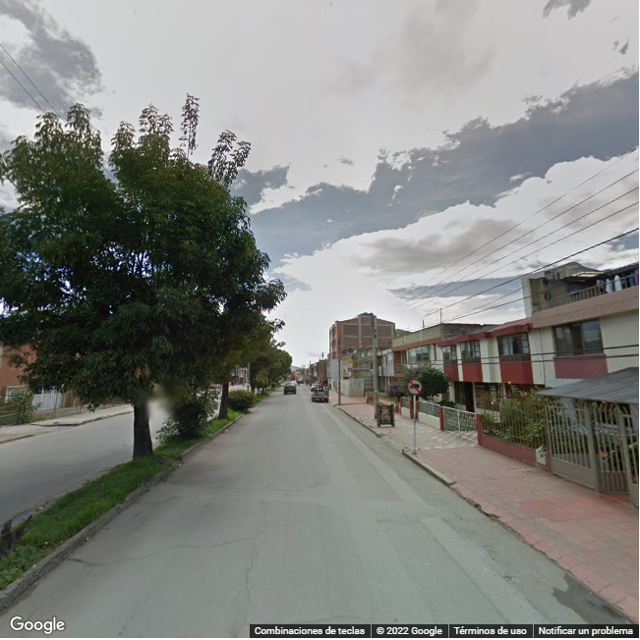D00: (245, 529, 260, 635)
D10: (100, 532, 248, 568)
